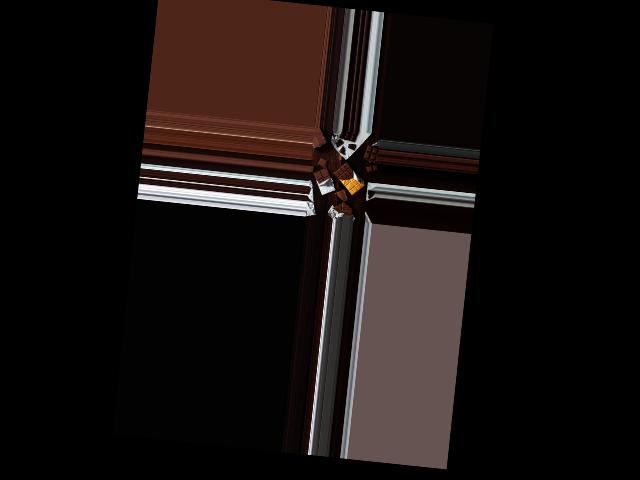chocolate: (309, 166, 338, 195)
